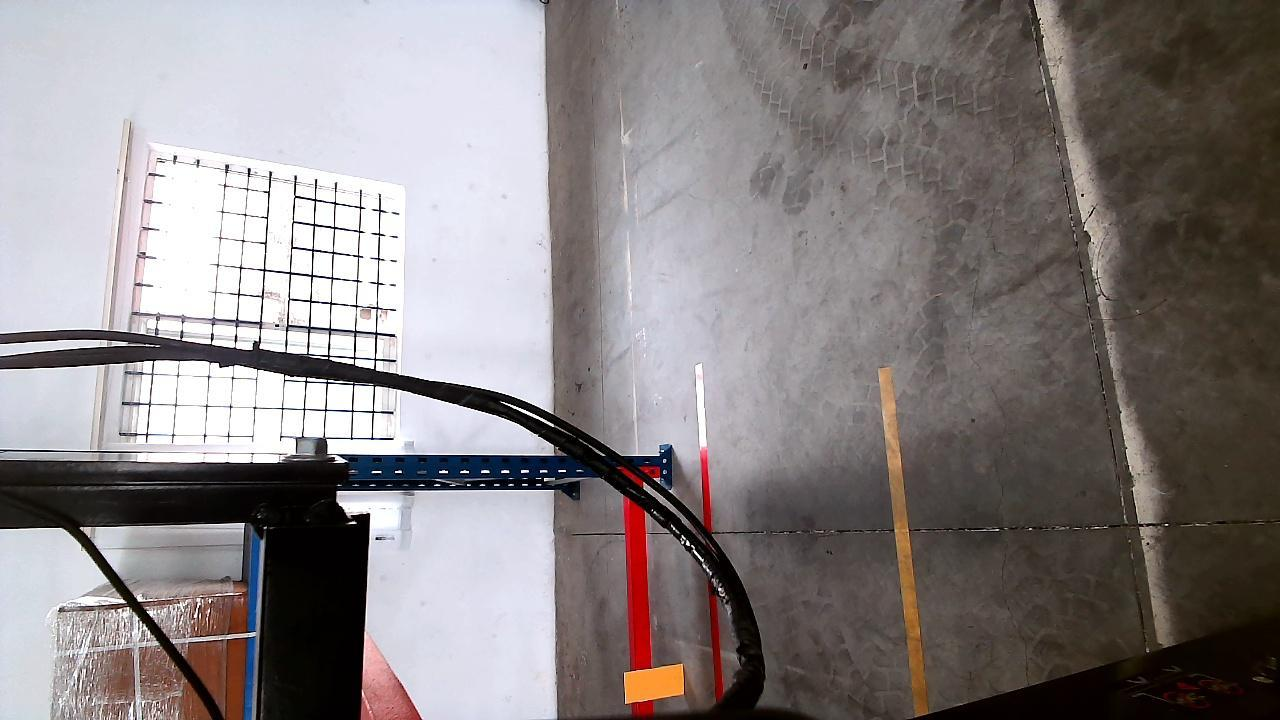red_line: (693, 363, 725, 701)
yellow_line: (876, 371, 930, 720)
